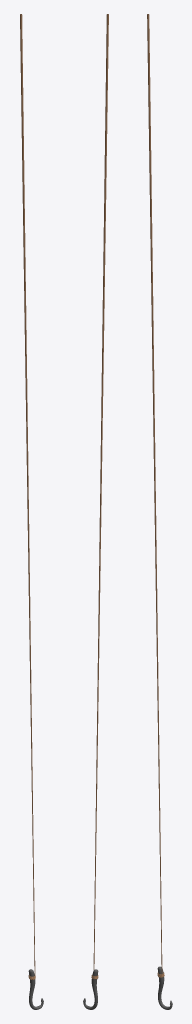
File: hook 1.fbx
The picture shows the model from 3 angles, left to right: view 1: azimuth 30°, elevation 25°; view 2: azimuth 150°, elevation 25°; view 3: azimuth 330°, elevation 25°; orthographic projection.
Visible parts, largest first — view 1: Cylinder.004, Vert; view 2: Cylinder.004, Vert; view 3: Cylinder.004, Vert.
Boxes of the visible parts, box(x1,y1,x2,y2) form: Cylinder.004: box(20, 14, 35, 979); Vert: box(28, 969, 43, 1009); Cylinder.004: box(91, 14, 108, 979); Vert: box(83, 969, 98, 1009); Cylinder.004: box(147, 14, 164, 977); Vert: box(157, 966, 172, 1009).
Size of the model in its own units: 157 by 6053 by 37.46.
